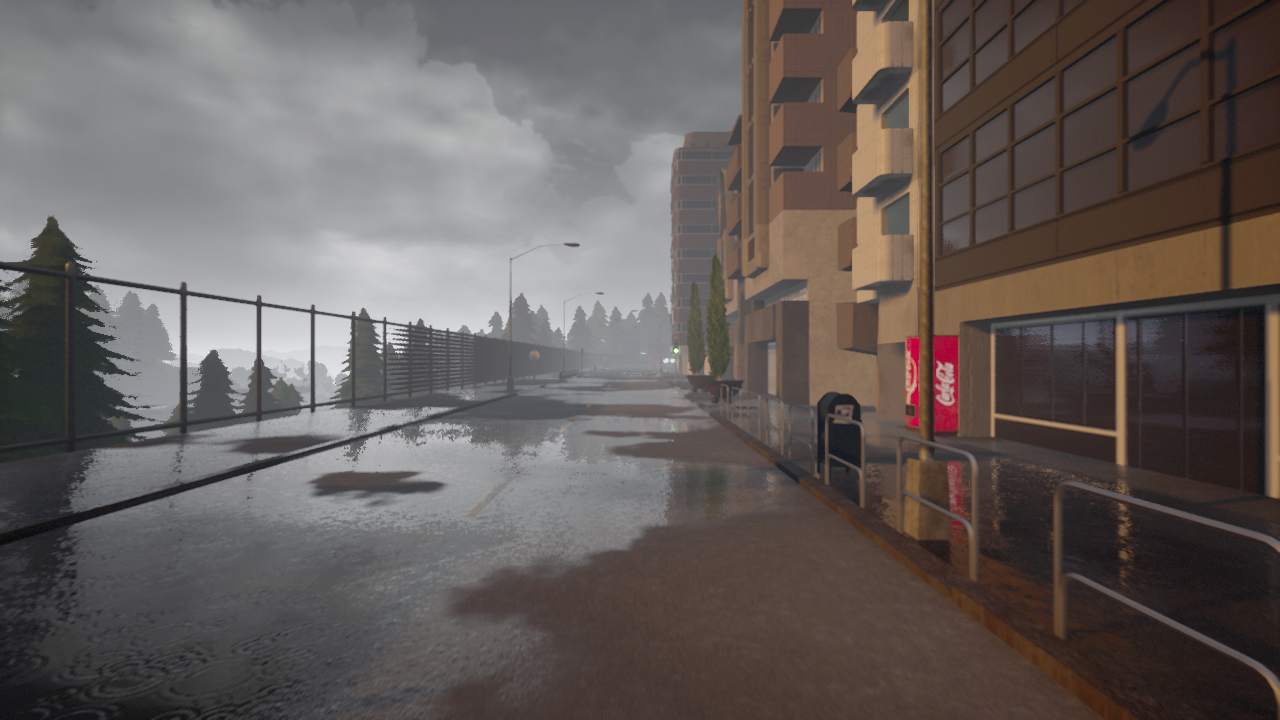green: (672, 339, 679, 355)
